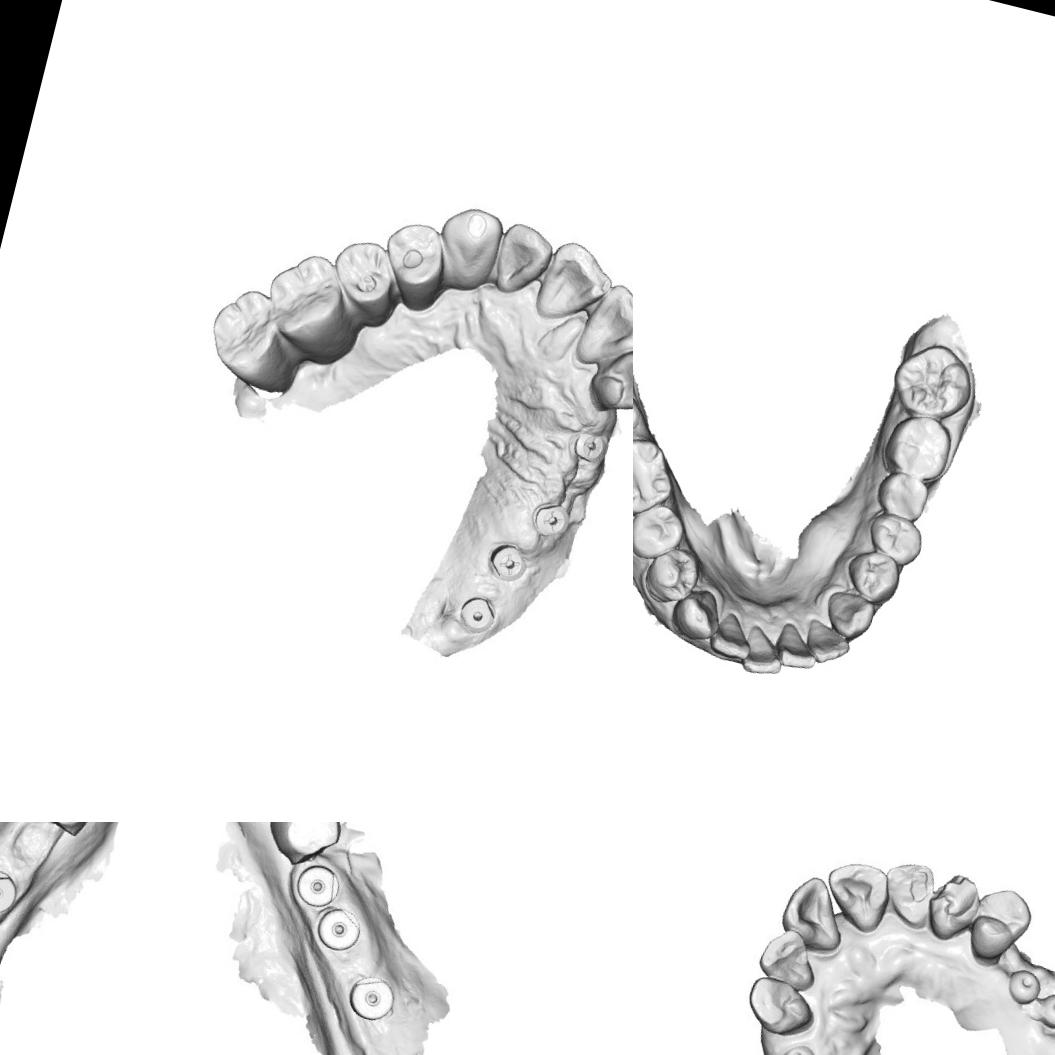canine: (426, 198, 507, 298), (734, 970, 822, 1042), (920, 864, 986, 949), (666, 582, 727, 645), (819, 586, 878, 642)
implant: (307, 899, 368, 957), (342, 970, 400, 1026), (288, 858, 346, 912), (452, 587, 502, 642), (1001, 963, 1045, 1009), (0, 861, 23, 920), (1035, 987, 1055, 1034), (771, 1039, 822, 1055)
implant_minus: (633, 388, 645, 441)
implant_plus: (524, 491, 578, 547), (566, 421, 611, 470), (486, 534, 530, 584)
incisor: (526, 238, 611, 328), (773, 868, 852, 957), (814, 854, 896, 939), (570, 278, 633, 378), (487, 217, 554, 300), (874, 851, 942, 932), (751, 922, 825, 994), (577, 338, 633, 430), (705, 607, 759, 664), (799, 615, 856, 669), (739, 622, 790, 680), (770, 620, 824, 672)
molar: (248, 238, 374, 374), (199, 278, 314, 407), (884, 335, 980, 429), (876, 405, 958, 486), (633, 426, 683, 527), (872, 466, 934, 524)
premolar: (319, 228, 416, 334), (368, 213, 456, 316), (962, 880, 1039, 967), (638, 540, 706, 611), (838, 542, 906, 608), (861, 507, 928, 570), (264, 822, 346, 871), (633, 497, 689, 567)
